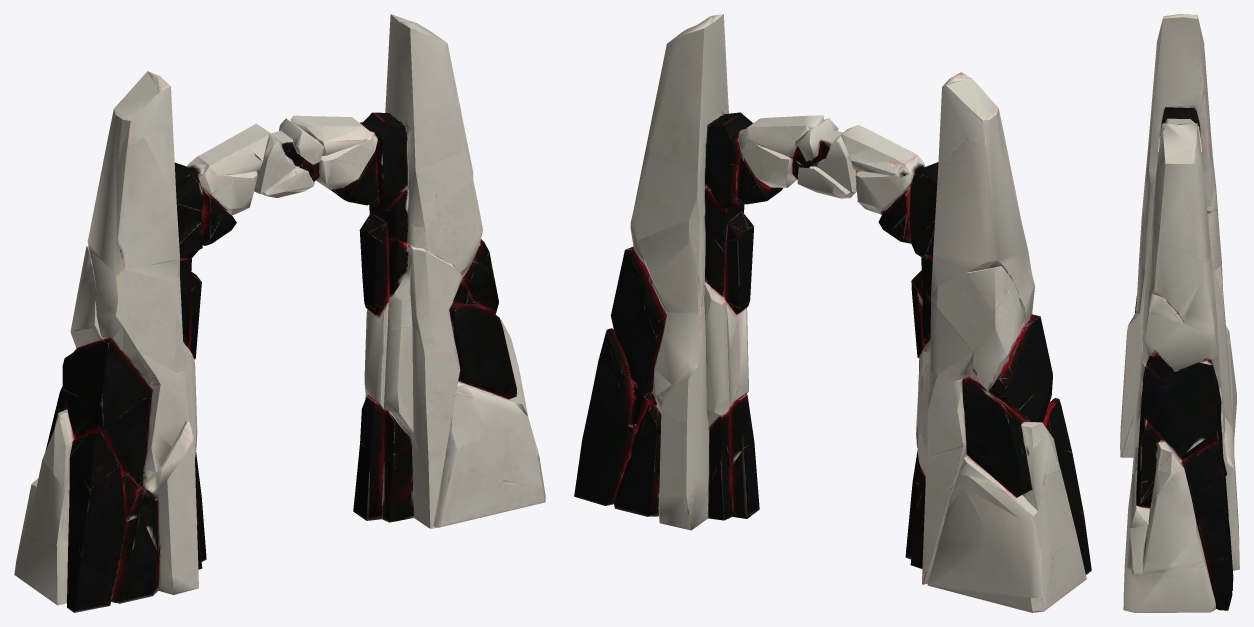
Rendered from gate.glb.
The picture shows the model from 3 angles, left to right: view 1: azimuth 30°, elevation 25°; view 2: azimuth 150°, elevation 25°; view 3: azimuth 270°, elevation 25°; orthographic projection. The views are drawn at different scales.
Visible parts, largest first — view 1: mesh_node; view 2: mesh_node; view 3: mesh_node.
Part boxes in pixels (x1,y1,x2,y2): mesh_node: [14, 14, 545, 612]; mesh_node: [574, 14, 1091, 612]; mesh_node: [1120, 14, 1239, 612].
Bounding box in the file's own units: 1.9 × 1.85 × 0.4579.
1 material, 1 textured.
